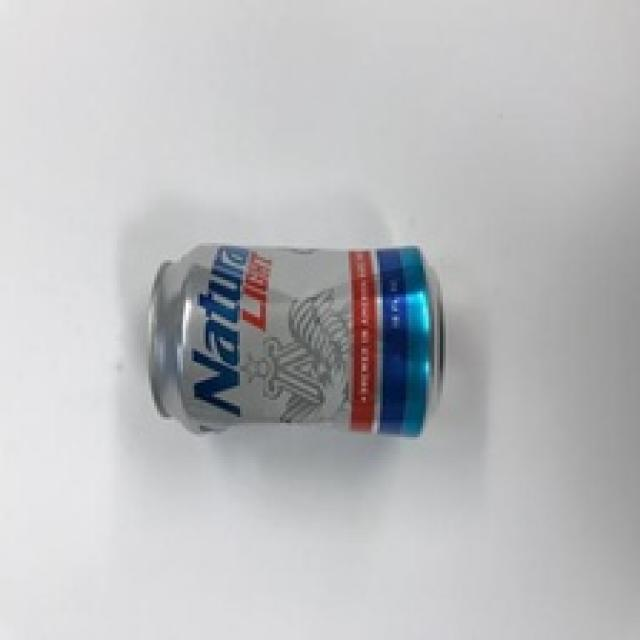recyclable: (144, 242, 444, 444)
